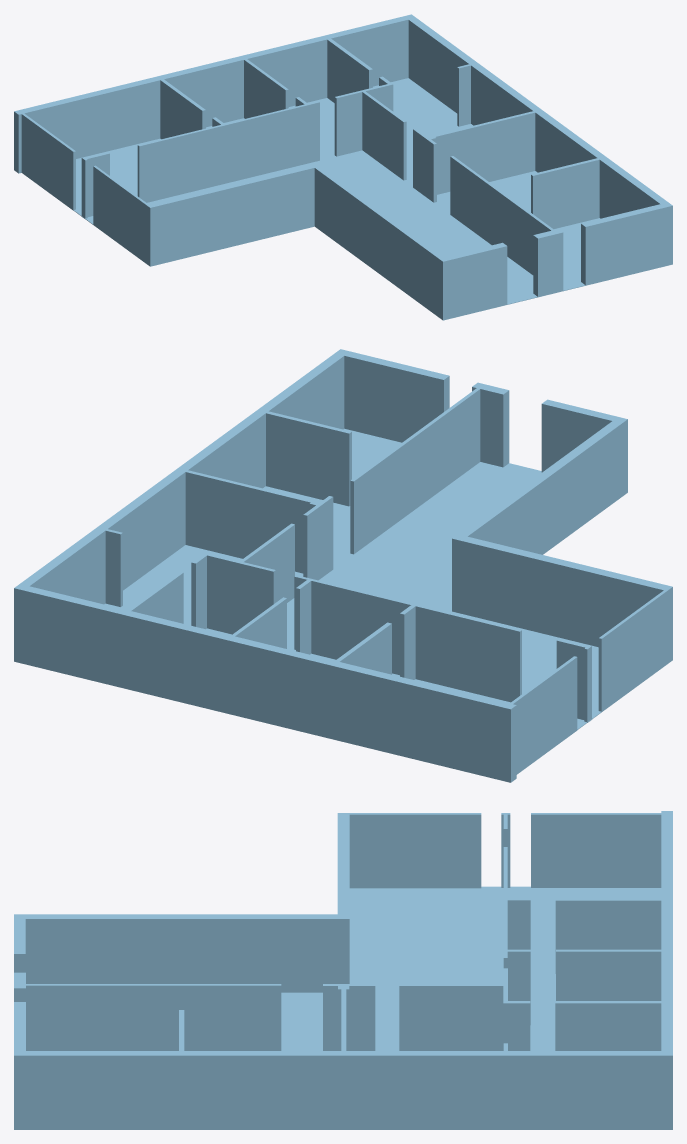
The model's file is control_lab_onshape.dae.
The picture shows the model from 3 angles, top to bottom: view 1: azimuth 30°, elevation 25°; view 2: azimuth 150°, elevation 25°; view 3: azimuth 270°, elevation 25°; orthographic projection. The views are drawn at different scales.
Parts seen in each view (by area): view 1: ID2; view 2: ID2; view 3: ID2.
Boxes of the visible parts, x1,y1,x2,y2 form: ID2: (14,14,672,320); ID2: (14,349,672,782); ID2: (14,811,672,1129).
Size of the model in its own units: 21.39 by 24.36 by 3.03.
